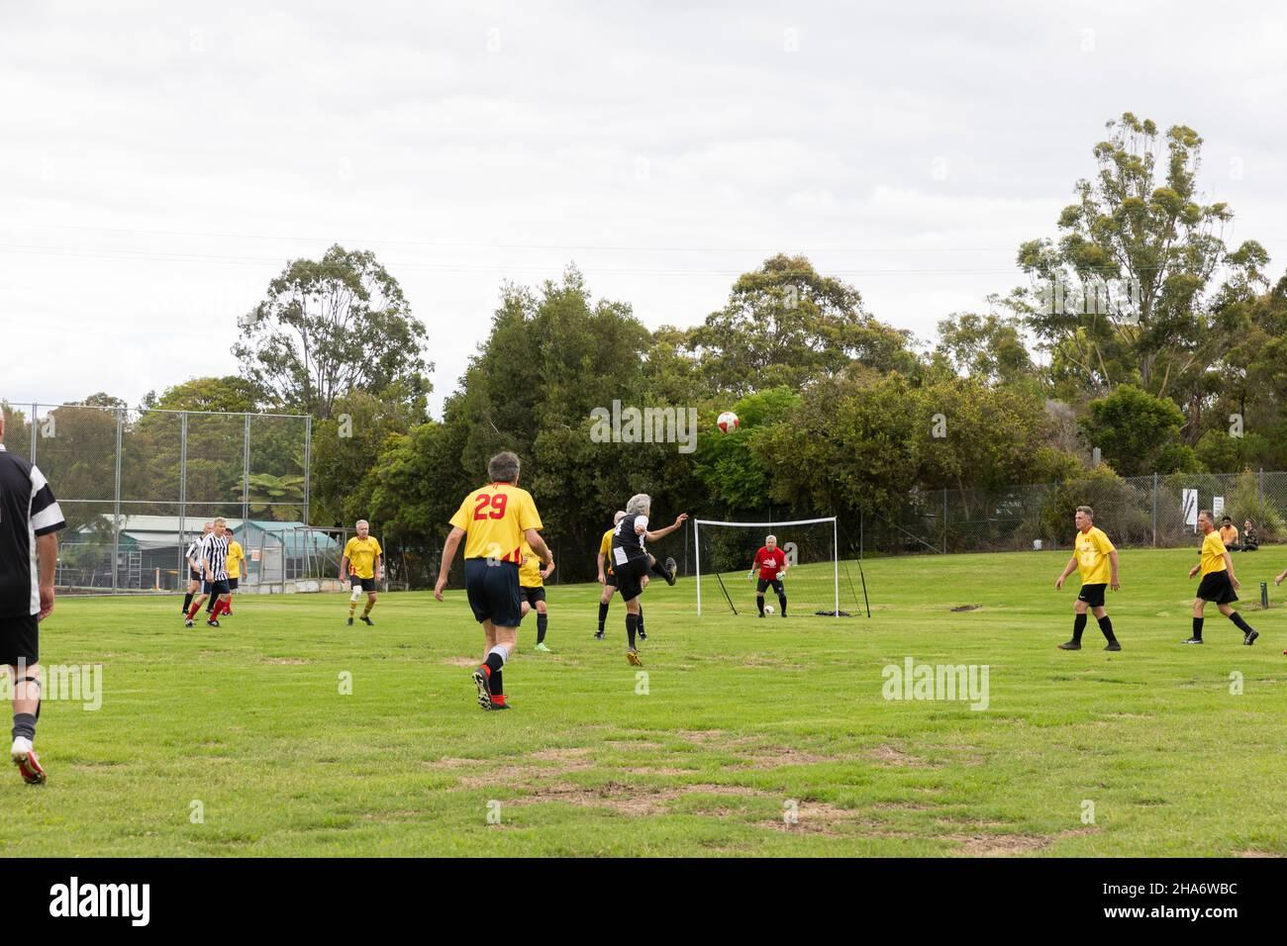ballon_football: (716, 411, 739, 436)
